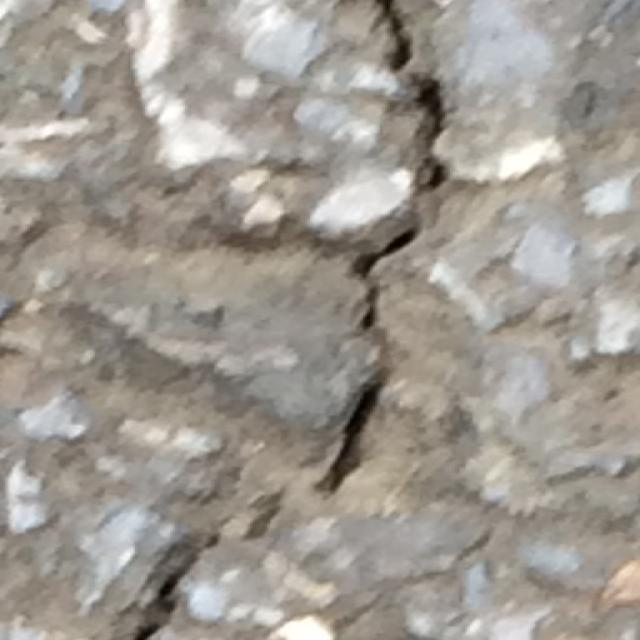Diagonal: (134, 511, 280, 640)
Longitudinal: (309, 8, 456, 490)
Turtle-shell patterned: (0, 2, 295, 493), (471, 0, 640, 640)
